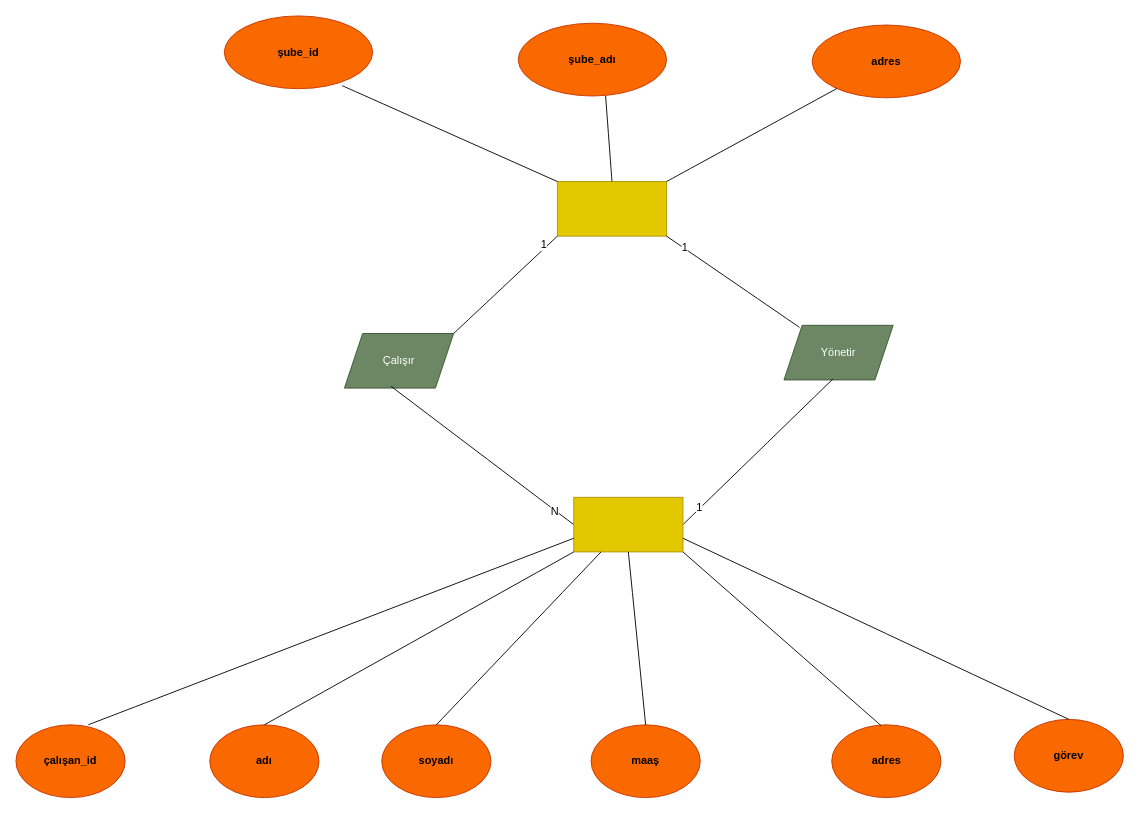
Some shapes in this 1139 by 814 pixel diagram are drawn without their labels. The shapes that lost their labels are listed below. From the top down, each one's box as (x1, y1, x2, y2) in pixels, then its label:
(556, 181, 667, 236): ŞUBE
(573, 496, 683, 552): ÇALIŞAN
